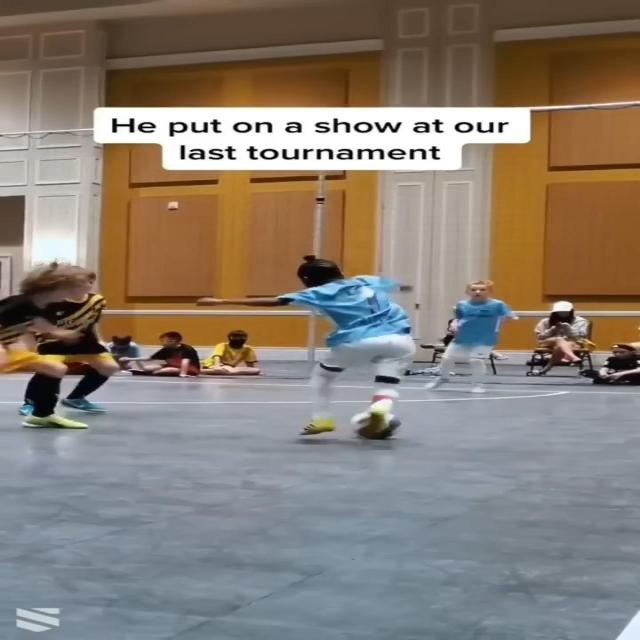Soccer Ball: (349, 411, 402, 439)
